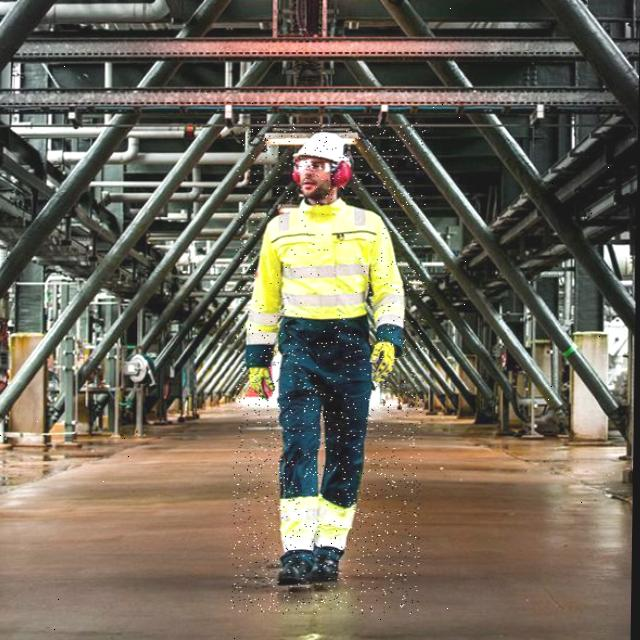Gloves: (371, 340, 398, 386), (247, 366, 276, 399)
Helmet: (292, 131, 353, 189)
Safety-Boot: (279, 554, 314, 591), (314, 551, 344, 585)
Safety-Vest: (267, 202, 383, 320)
